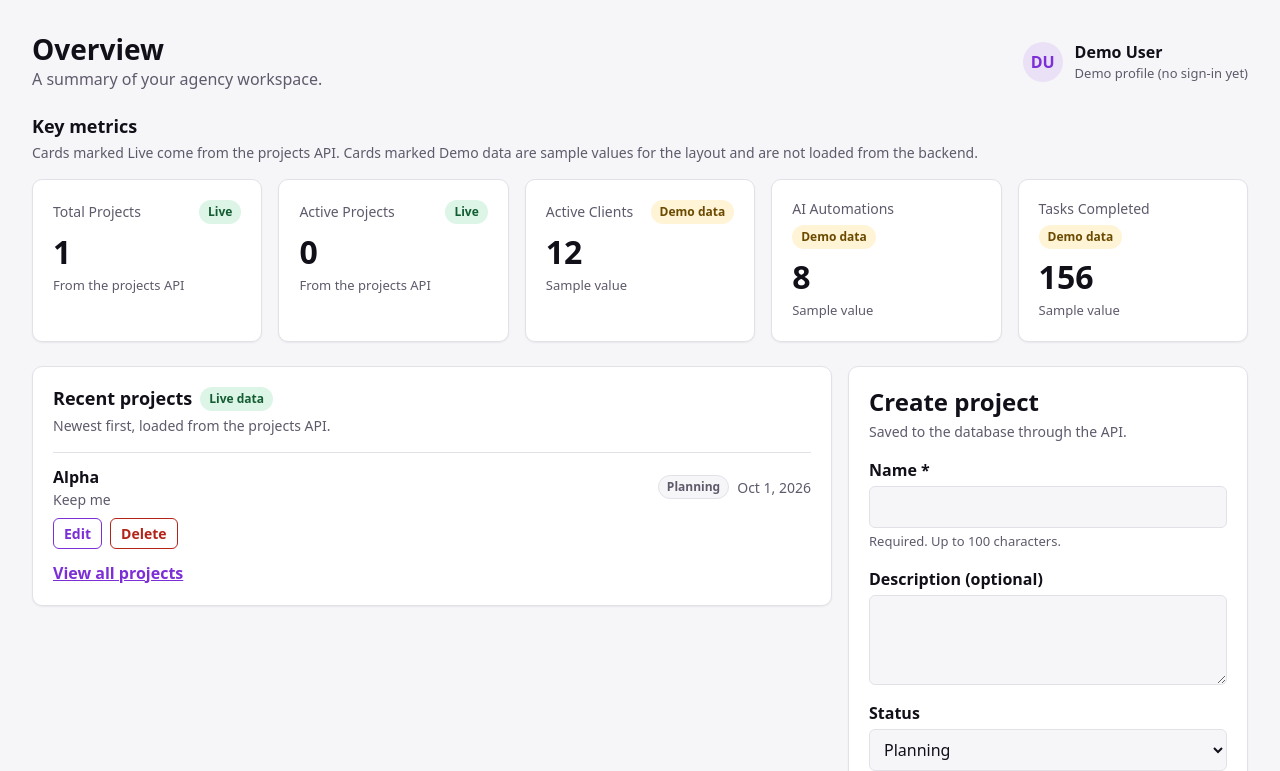
Test case: Editing a project › saves only the changed fields, then updates the list and counts
Click the button with aria-label "Edit Alpha".
click(78, 533)  # box [53,518,102,548]
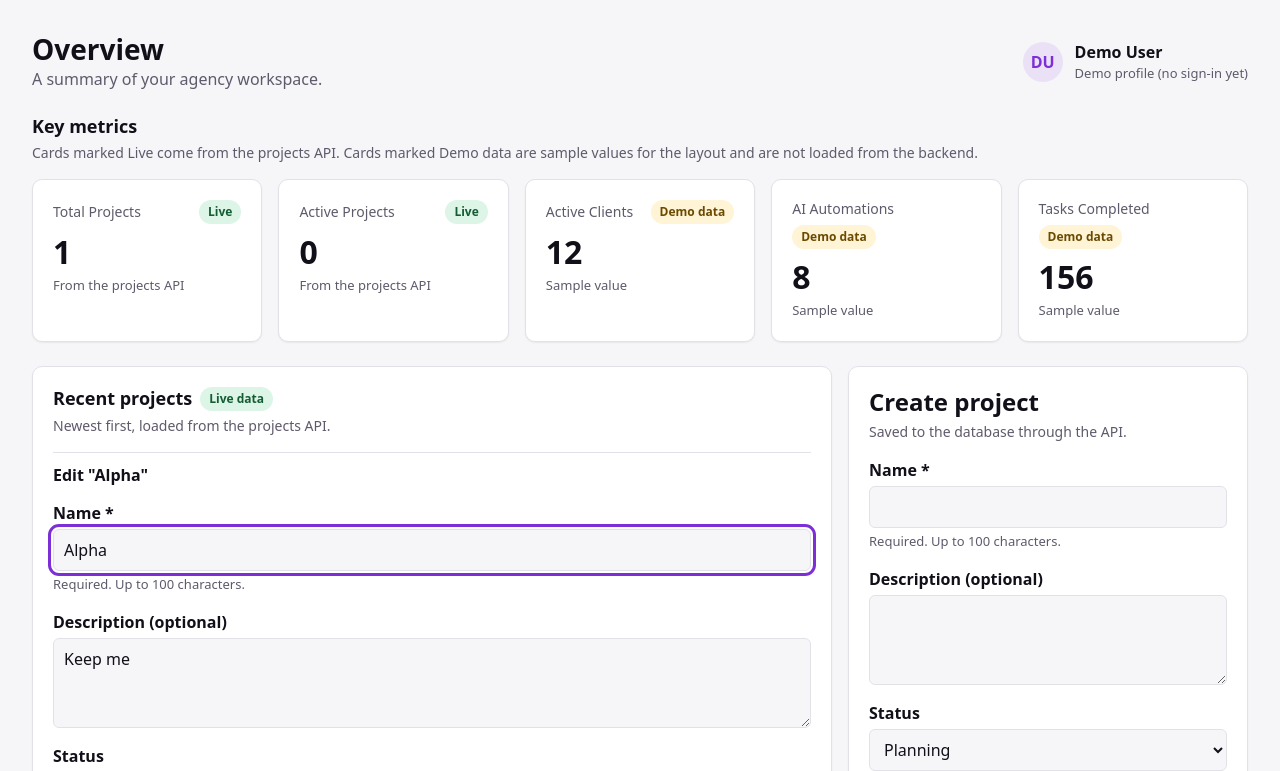
Replace the text in the field labelled "Name *" below "Edit \"" with "  Alpha v2  " at (432, 550), box [53,528,811,570]
(page scrolled)
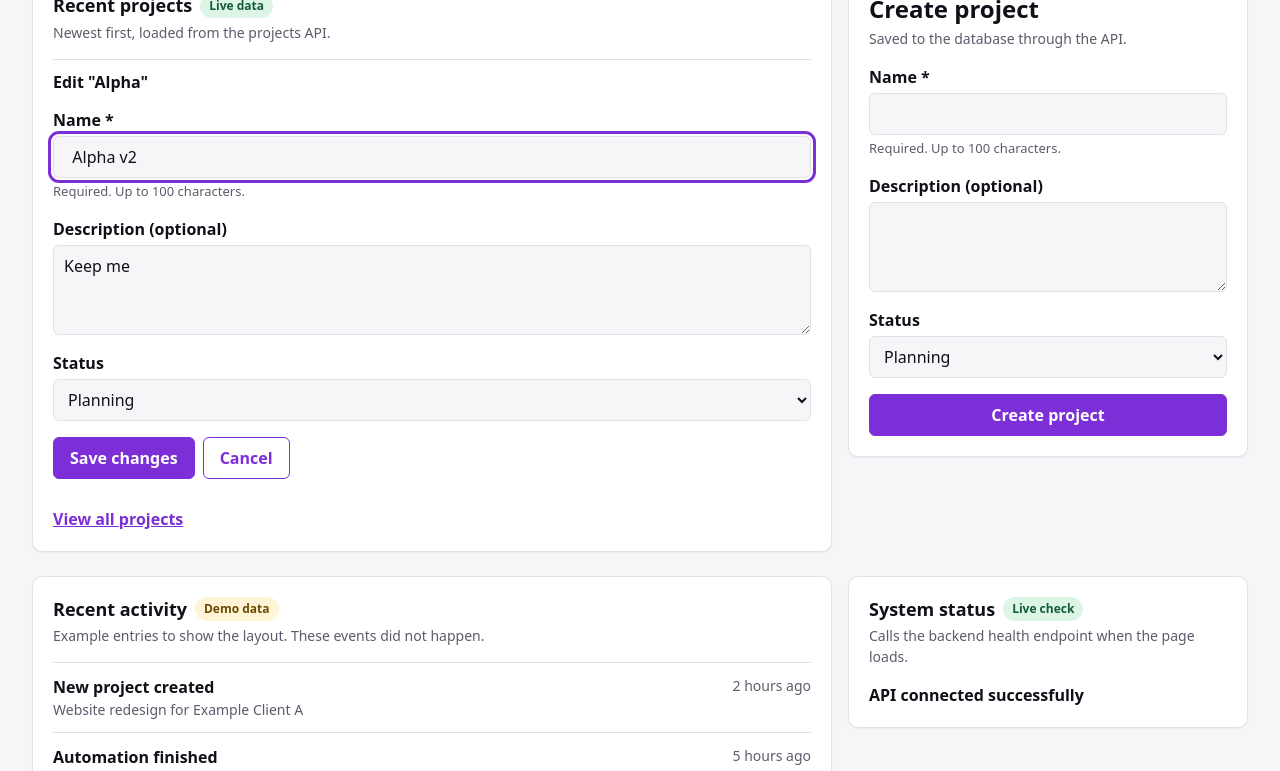
Select "Active" in the dropdown labelled "Status" below "Edit \"" at (432, 400), box [53,379,811,421]
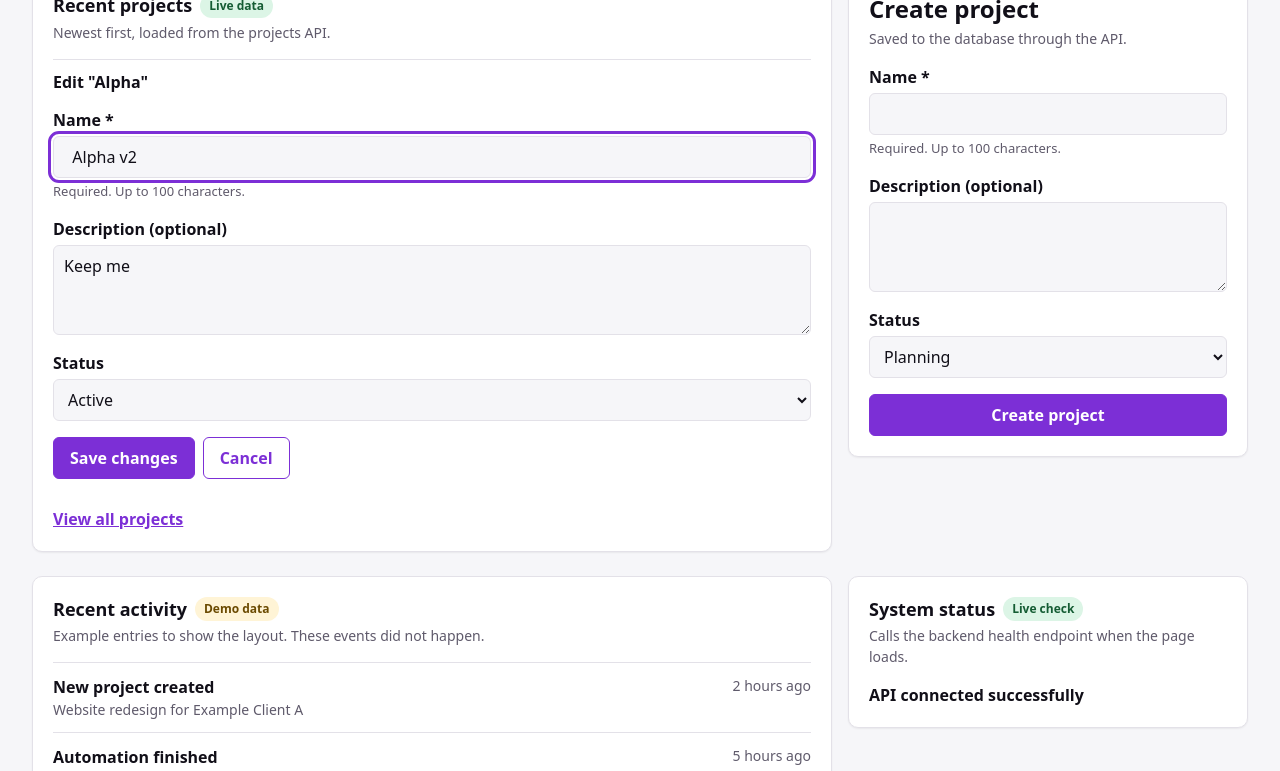
Click the button "Save changes".
click(124, 458)  # box [53,437,195,479]
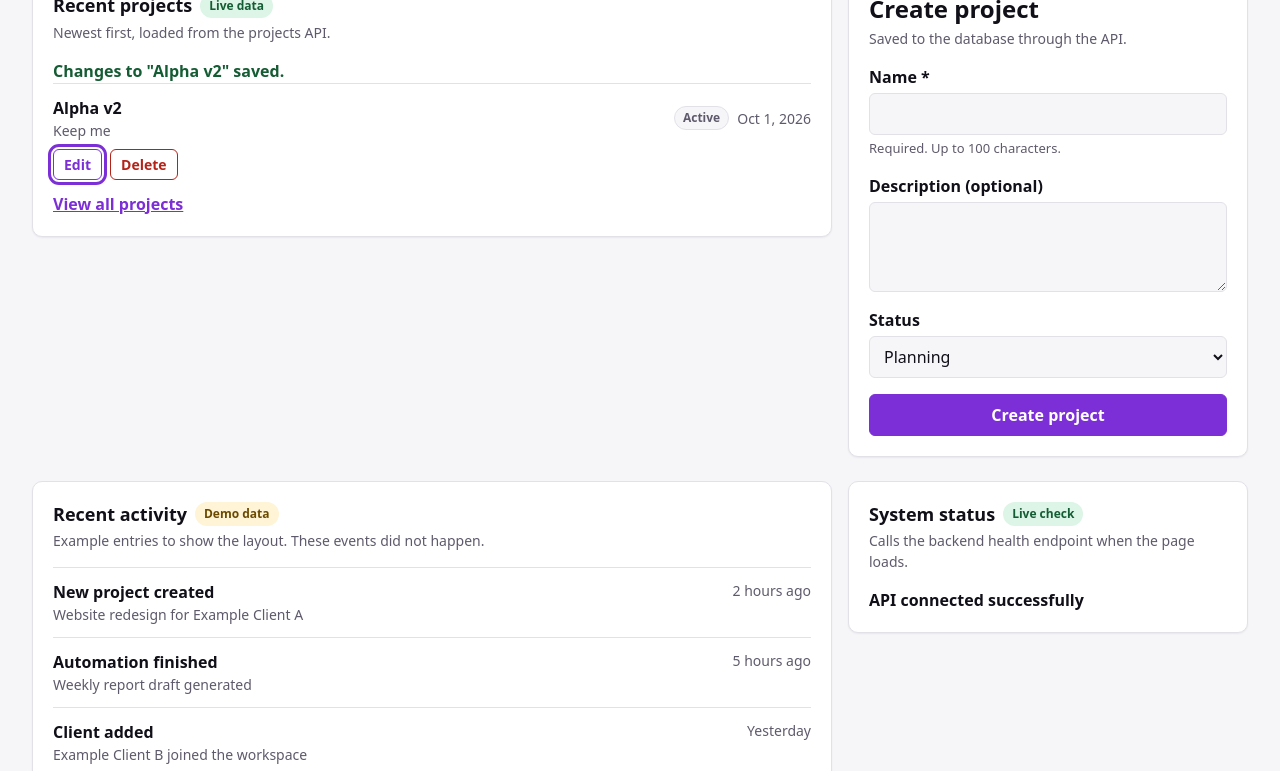
Now the text "Changes to \"Alpha v2\" saved." is shown, box [53,60,284,82]
Now the text "Keep me" is shown, box [53,120,111,140]
